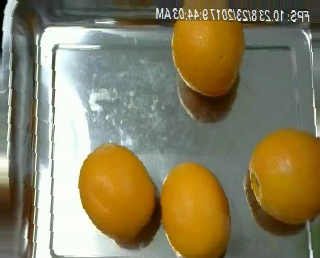Orange: (79, 143, 156, 240), (247, 128, 320, 225), (160, 160, 232, 258)
